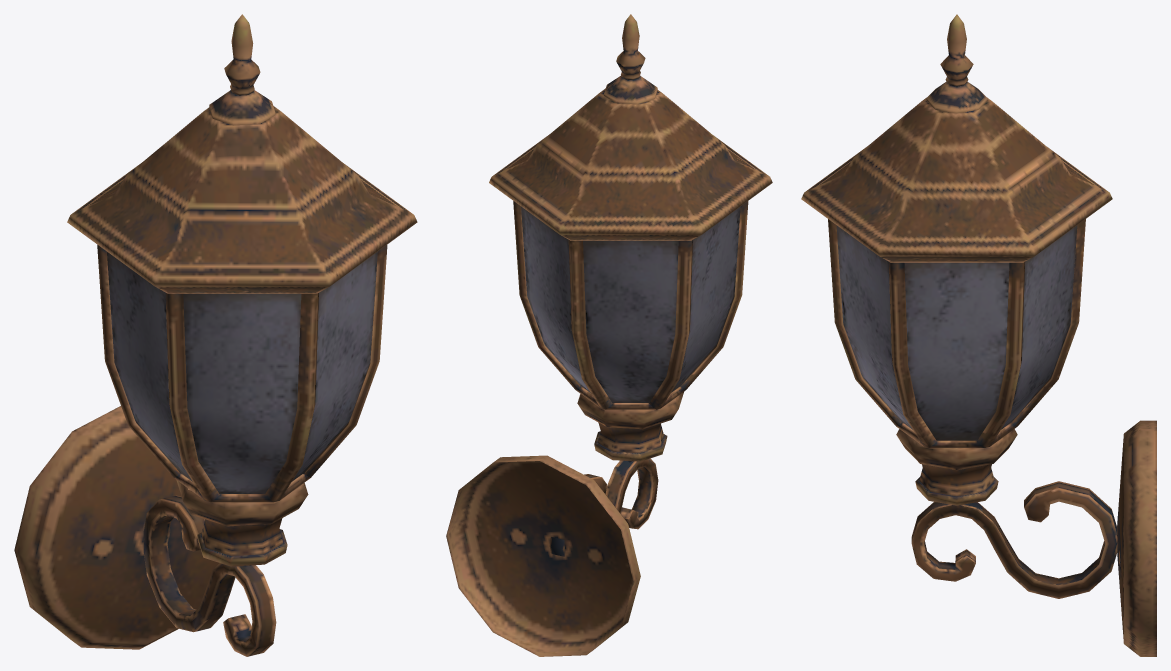
Rendered from sm35_033_walllampa01a.fbx.
3 renders of one model, left to right at view 1: azimuth 30°, elevation 25°; view 2: azimuth 150°, elevation 25°; view 3: azimuth 270°, elevation 25°, orthographic. The views are drawn at different scales.
Parts seen in each view (by area): view 1: LOD_1_Group_0_Sub_1__sm35_033_WallLampA01A_A_Mat; view 2: LOD_1_Group_0_Sub_1__sm35_033_WallLampA01A_A_Mat; view 3: LOD_1_Group_0_Sub_1__sm35_033_WallLampA01A_A_Mat.
Part boxes in pixels (x1,y1,x2,y2): LOD_1_Group_0_Sub_1__sm35_033_WallLampA01A_A_Mat: (14,14,417,656); LOD_1_Group_0_Sub_1__sm35_033_WallLampA01A_A_Mat: (446,14,772,656); LOD_1_Group_0_Sub_1__sm35_033_WallLampA01A_A_Mat: (801,14,1156,656).
Bounding box in the file's own units: 0.4576 × 1.18 × 0.6031.
